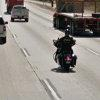Motorcycle: (49, 28, 86, 78)
